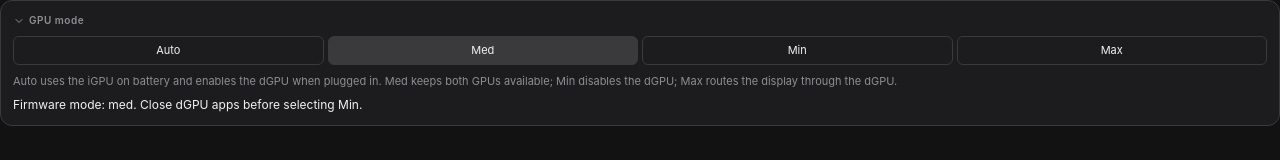
Test: requires restart after a MUX change and prevents further GPU writes
Step 1. Click the button "Max" → (1112, 50), box [956, 36, 1267, 64]
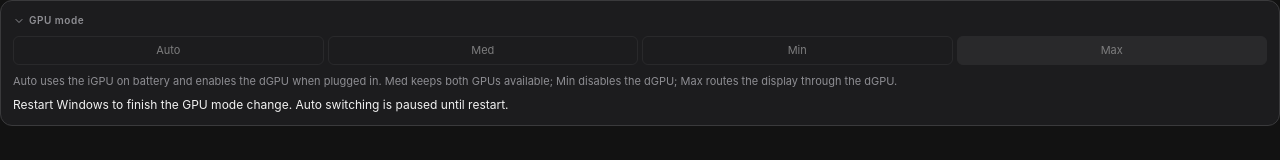
Result: the text "Auto switching is paused" is shown at [13, 97, 508, 112]
Result: the button "Auto" is disabled at [13, 36, 324, 64]
Result: the button "Med" is disabled at [328, 36, 638, 64]
